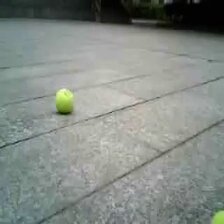tennis: (56, 88, 75, 114)
